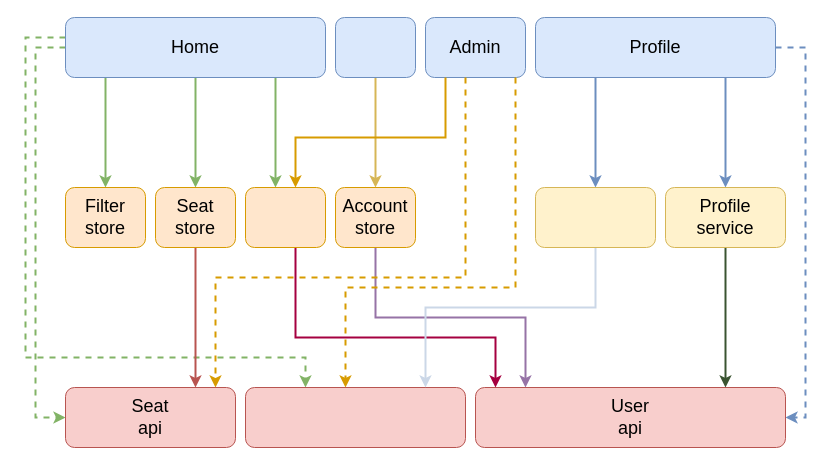
Image size: 831x465. Some labels were removed from this diagram. The centre of each missing label's shape, as x and y in pixels:
App: (375,47)
Reservation service: (595,217)
Reserve api: (355,417)
Setting store: (285,217)
